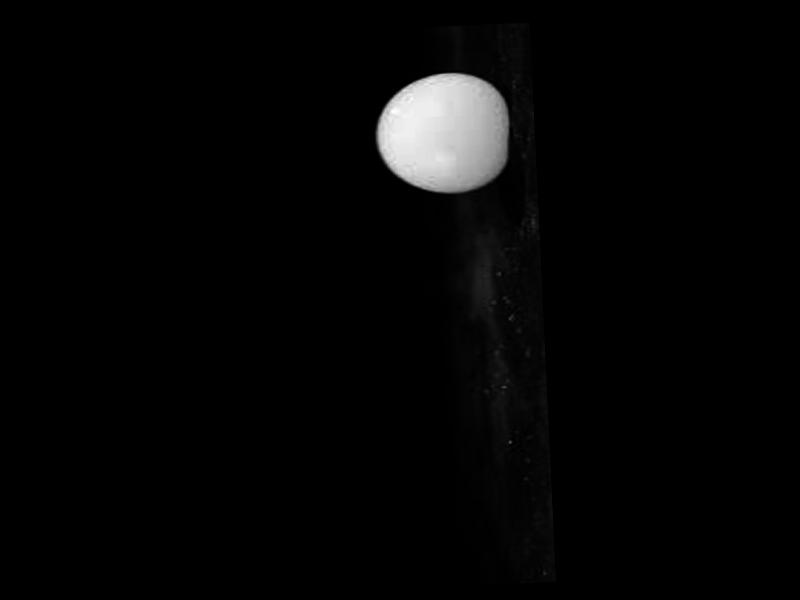Eggs: (372, 70, 510, 198)
